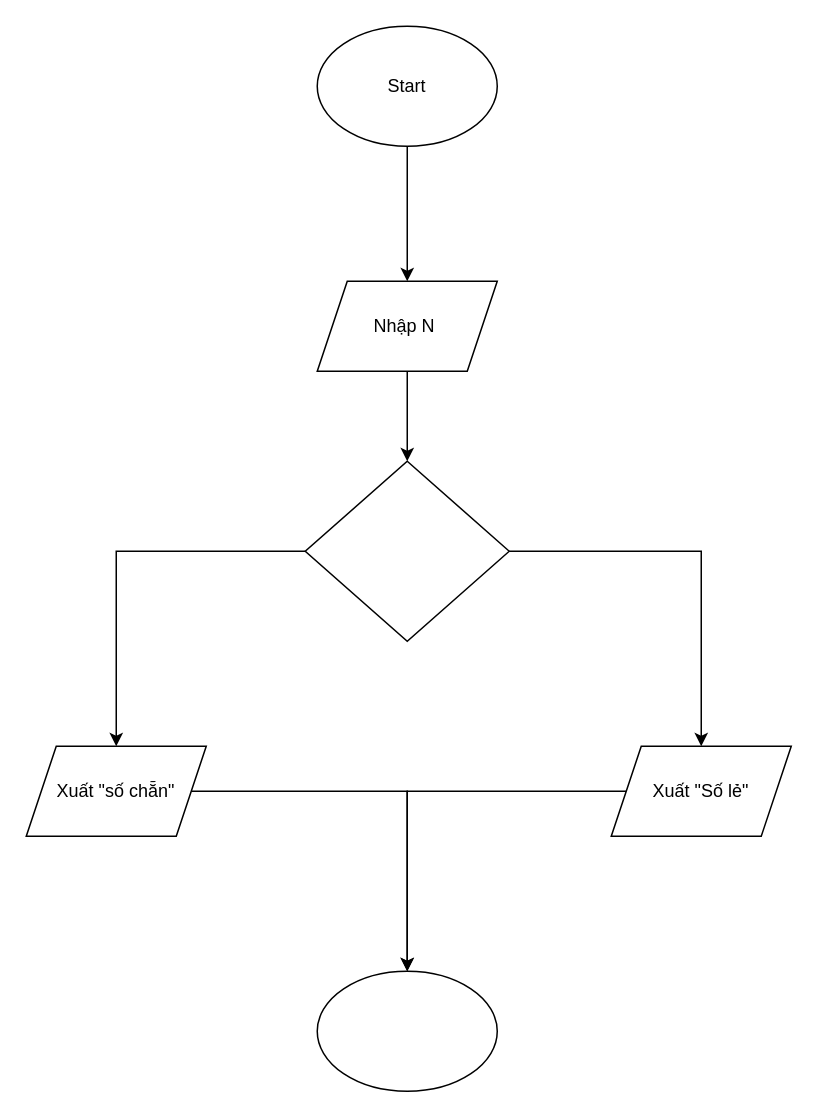
The diagram is 818 pixels wide and 1118 high, and some of its shapes have lost their labels. The shapes that lost their labels are listed below. From the top down, each one's box as (x1, y1, x2, y2) in pixels, then its label:
(304, 460, 509, 641): N mod 2 = 0?
(316, 970, 497, 1091): End
